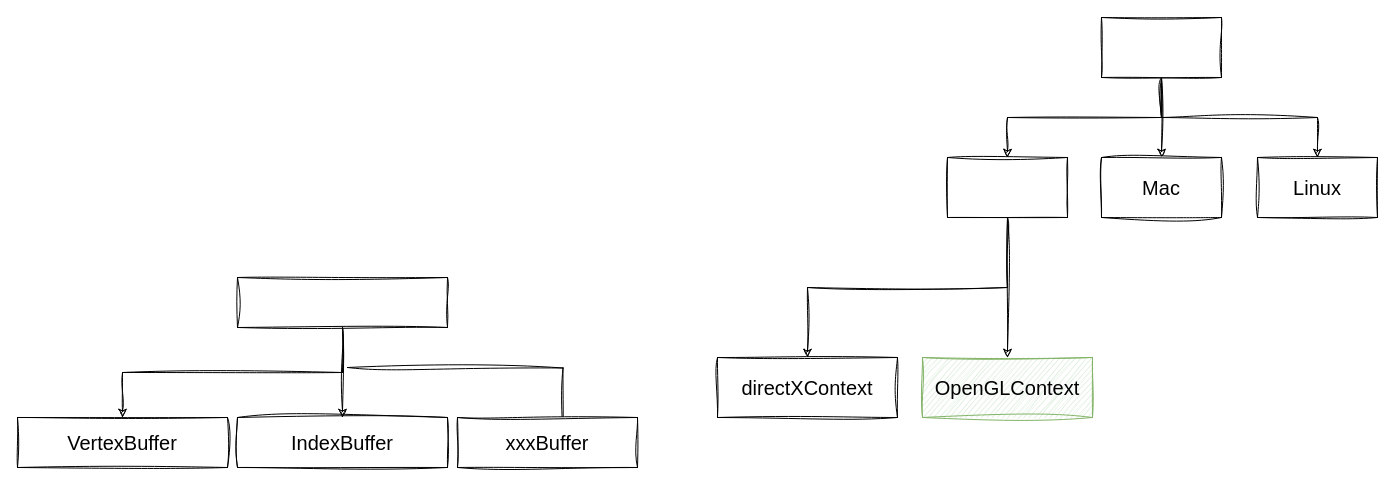
The diagram is 1395 pixels wide and 485 high, and some of its shapes have lost their labels. Here are the shapes that lost their labels. From the top down, the centre of each, then its label:
At pixel 1161 47: "Window".
At pixel 1007 187: "Windws".
At pixel 342 302: "VertexArray".
